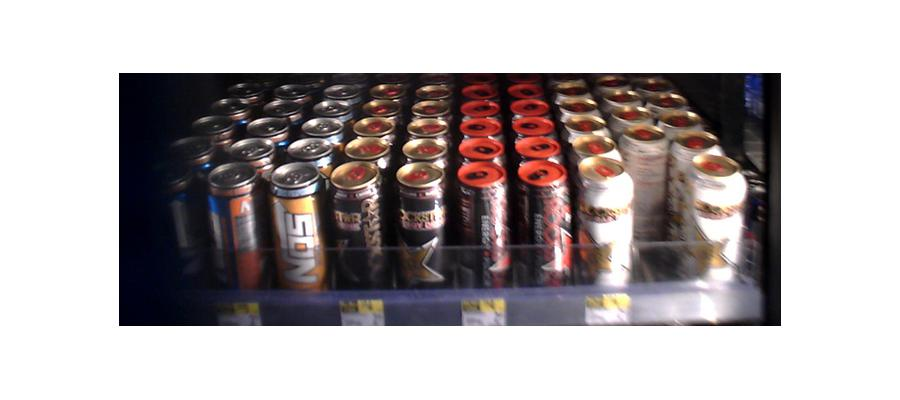bottle: (683, 149, 749, 294), (577, 149, 632, 296), (161, 125, 208, 289), (271, 162, 323, 295), (330, 159, 384, 287), (210, 162, 264, 289), (520, 154, 568, 285), (395, 163, 443, 287), (461, 163, 507, 289)
